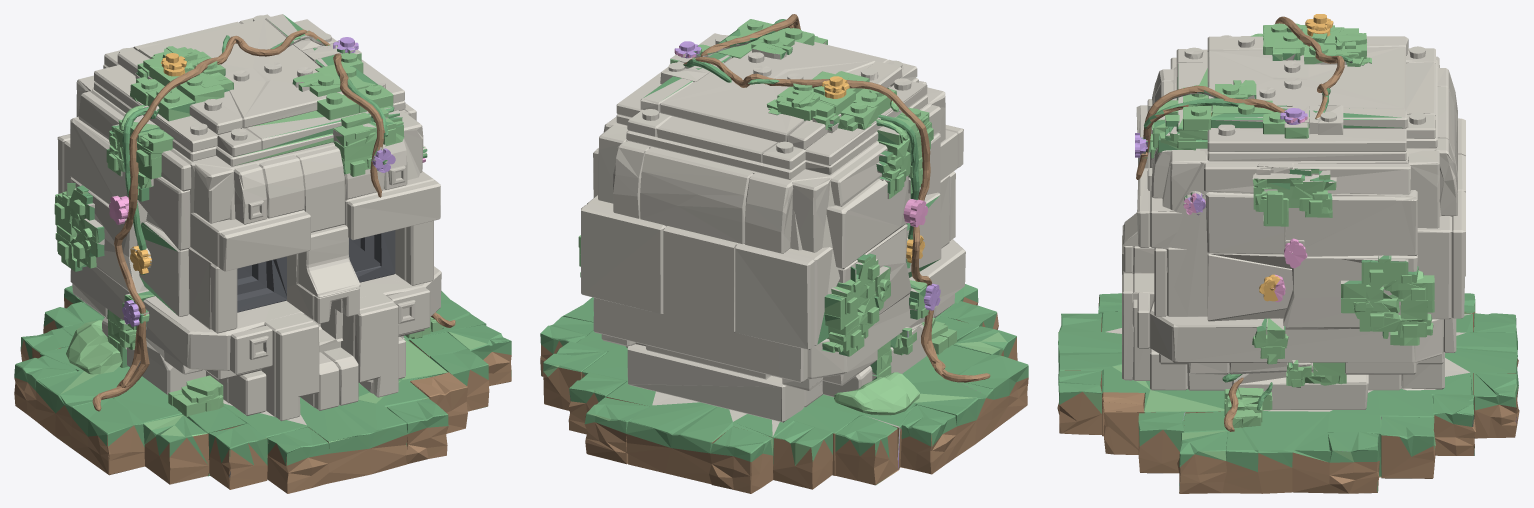
The model's file is Prop_SkullShrine_Plastic.glb.
3 renders of one model, left to right at view 1: azimuth 30°, elevation 25°; view 2: azimuth 150°, elevation 25°; view 3: azimuth 270°, elevation 25°, orthographic.
Visible parts, largest first — view 1: Bone, DarkGreen, Brown, Green, Ink, Purple, Orange; view 2: Bone, DarkGreen, Brown, Green, Orange, Purple, Pink; view 3: Bone, DarkGreen, Green, Brown, Pink, Orange, Purple.
Boxes of the visible parts, left/top/right/bottom form: Bone: left=57, top=14, right=441, bottom=484; DarkGreen: left=14, top=14, right=511, bottom=476; Brown: left=14, top=29, right=511, bottom=493; Green: left=54, top=36, right=487, bottom=444; Ink: left=229, top=230, right=395, bottom=477; Purple: left=122, top=37, right=395, bottom=326; Orange: left=130, top=53, right=266, bottom=438; Bone: left=581, top=33, right=965, bottom=459; DarkGreen: left=540, top=19, right=1028, bottom=484; Brown: left=540, top=14, right=1028, bottom=493; Green: left=543, top=19, right=1006, bottom=465; Orange: left=822, top=76, right=925, bottom=262; Purple: left=675, top=41, right=940, bottom=469; Pink: left=674, top=46, right=980, bottom=392; Bone: left=1106, top=35, right=1471, bottom=411; DarkGreen: left=1058, top=51, right=1518, bottom=492; Green: left=1058, top=23, right=1516, bottom=461; Brown: left=1057, top=16, right=1519, bottom=493; Pink: left=1183, top=55, right=1381, bottom=419; Orange: left=1211, top=14, right=1333, bottom=301; Purple: left=1135, top=108, right=1516, bottom=451.
Bounding box in the file's own units: 0.9624 × 0.7842 × 0.9492.
